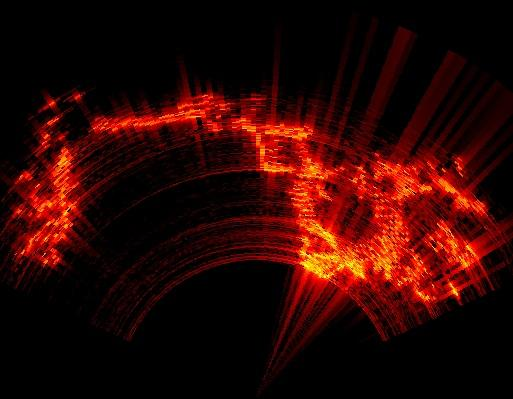shipwreck: (93, 94, 462, 303), (15, 147, 77, 265), (427, 222, 477, 269), (434, 178, 484, 213)
